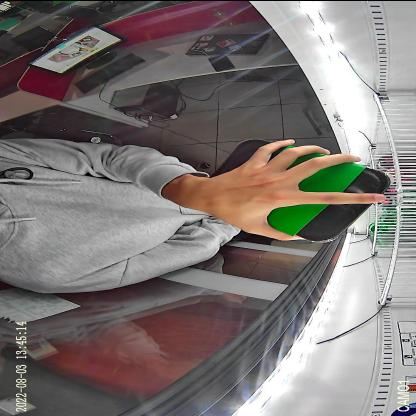green: (208, 137, 390, 243)
